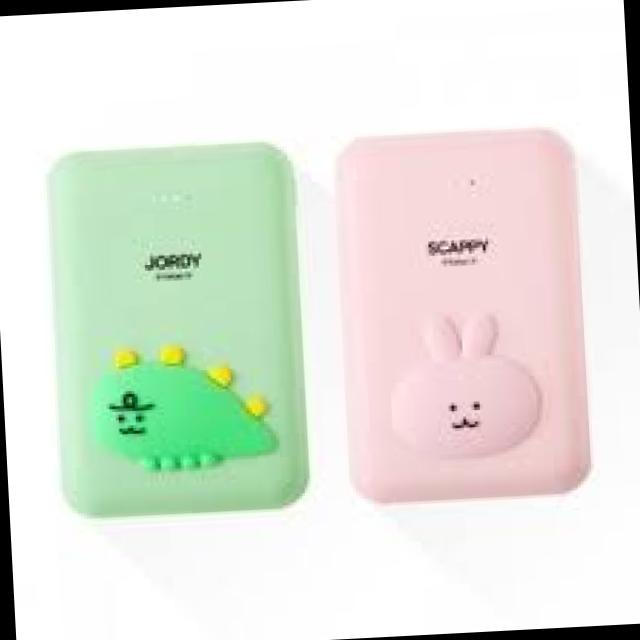power_bank: (46, 137, 318, 524), (333, 120, 598, 510)
